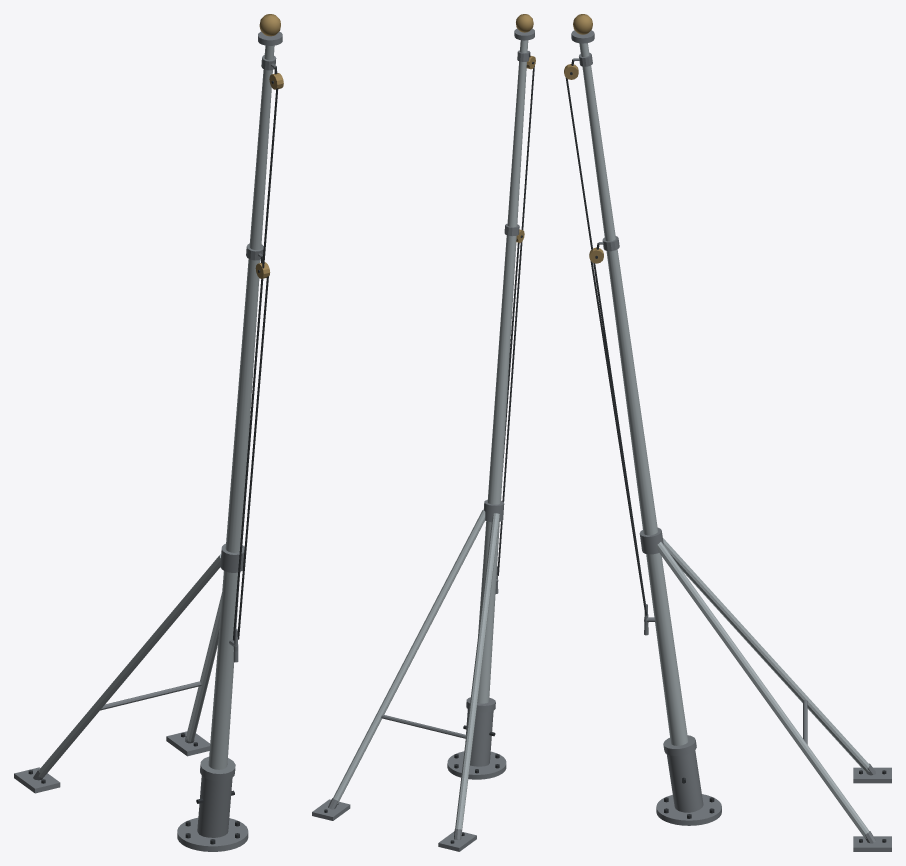
3 views of the same model, side by side, from view 1: azimuth 30°, elevation 25°; view 2: azimuth 150°, elevation 25°; view 3: azimuth 270°, elevation 25° (orthographic). The views are drawn at different scales.
Visible parts, largest first — view 1: component.root.mesh; view 2: component.root.mesh; view 3: component.root.mesh.
Boxes of the visible parts, x1,y1,x2,y2 form: component.root.mesh: (14,14,283,851); component.root.mesh: (312,14,535,851); component.root.mesh: (564,14,891,851).
Size of the model in its own units: 0.98 by 4.55 by 1.7.
